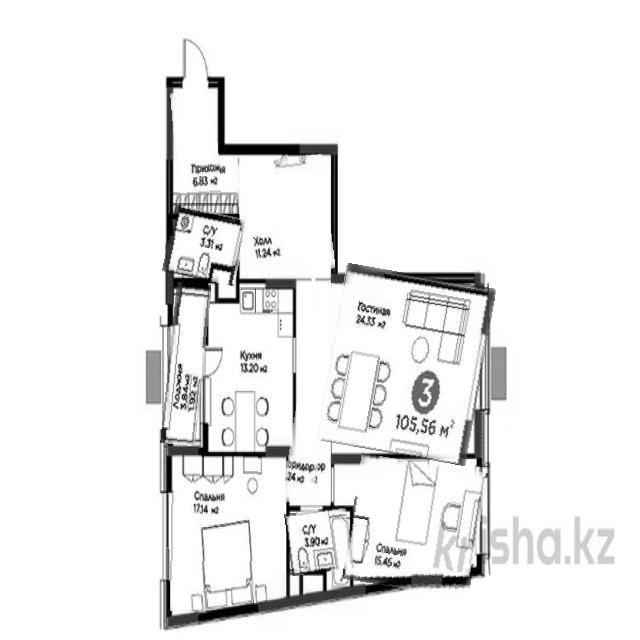balcony: (164, 282, 207, 446)
bathroom: (165, 209, 245, 283), (286, 507, 352, 574)
hallway: (237, 157, 332, 276), (290, 280, 337, 505), (172, 92, 219, 195)
kitchen: (207, 283, 295, 449)
living_room: (323, 269, 489, 461), (346, 457, 484, 594), (171, 453, 286, 612)
